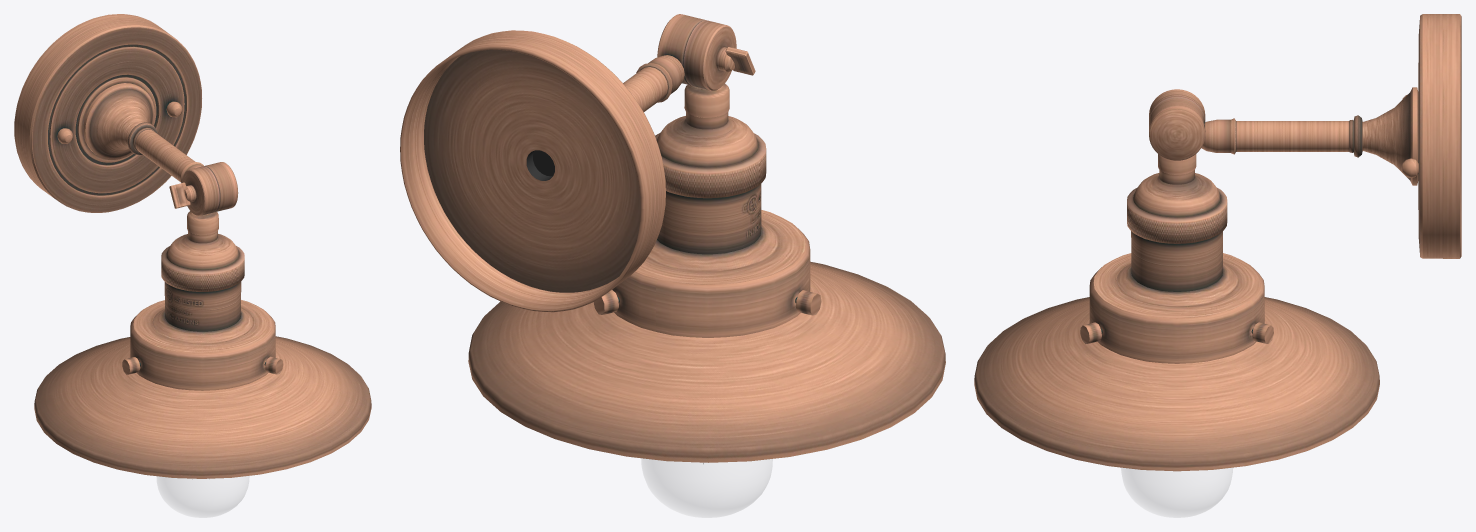
File: barn-lamp.glb
3 renders of one model, left to right at view 1: azimuth 30°, elevation 25°; view 2: azimuth 150°, elevation 25°; view 3: azimuth 270°, elevation 25°, orthographic. The views are drawn at different scales.
Visible parts, largest first — view 1: Lamp Metal, Lamp Glass; view 2: Lamp Metal, Lamp Glass; view 3: Lamp Metal, Lamp Glass.
Boxes of the visible parts, x1=… form: Lamp Metal: x1=14, y1=14, x2=371, y2=479; Lamp Glass: x1=157, y1=476, x2=249, y2=517; Lamp Metal: x1=400, y1=14, x2=945, y2=464; Lamp Glass: x1=641, y1=458, x2=772, y2=517; Lamp Metal: x1=974, y1=14, x2=1461, y2=471; Lamp Glass: x1=1121, y1=468, x2=1232, y2=517.
Size of the model in its own units: 0.1908 by 0.2552 by 0.2265.
Materials: 3 (1 with a texture image).
